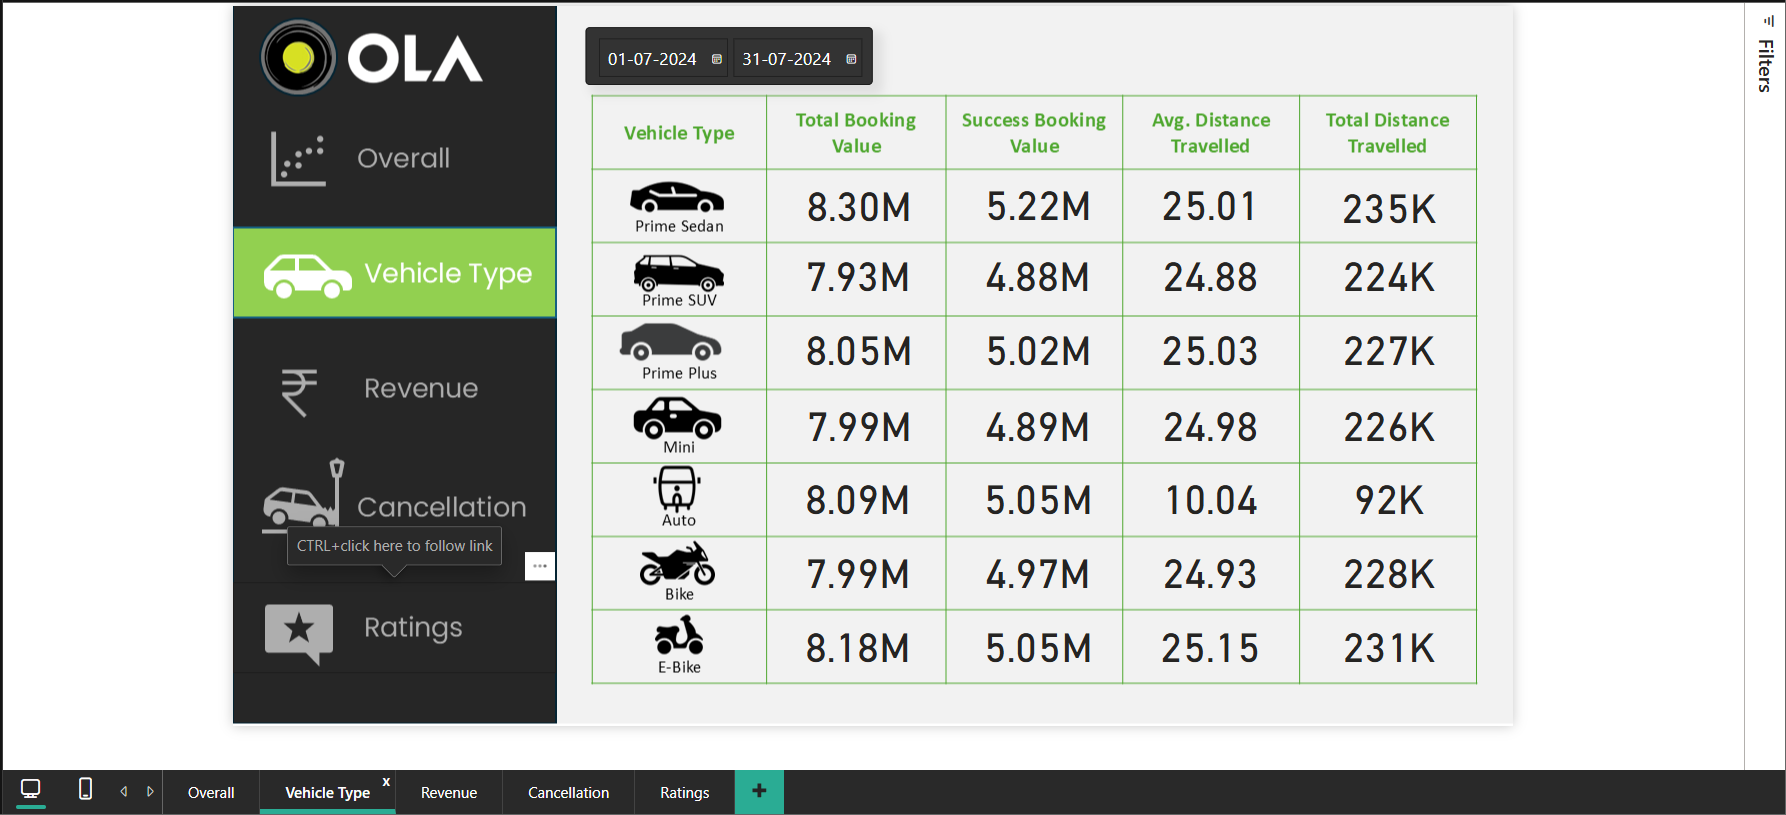

Layout of this report page (visuals, bound fields, positions):
{"tool":"powerbi","page":{"name":"Vehicle type","canvas":[1280,720],"ordinal":1},"visuals":[{"type":"actionButton","box":[0,332.2,324.4,91.1],"z":0},{"type":"actionButton","box":[0,447.8,324.4,91.1],"z":1000},{"type":"actionButton","box":[0,582.2,324.4,91.1],"z":2000},{"type":"actionButton","box":[0,111.1,324.4,91.1],"z":3000},{"type":"card","fields":{"Values":["Sum(Booking.Booking_Value)"]},"box":[533.3,164.4,181.1,72.2],"z":4000},{"type":"card","fields":{"Values":["Sum(Booking.Booking_Value)"]},"box":[533.3,236.7,181.1,72.2],"z":5000},{"type":"card","fields":{"Values":["Sum(Booking.Booking_Value)"]},"box":[533.3,305.6,181.1,72.2],"z":6000},{"type":"card","fields":{"Values":["Sum(Booking.Booking_Value)"]},"box":[533.3,377.8,181.1,72.2],"z":7000},{"type":"card","fields":{"Values":["Sum(Booking.Booking_Value)"]},"box":[533.3,450,181.1,72.2],"z":8000},{"type":"card","fields":{"Values":["Sum(Booking.Booking_Value)"]},"box":[533.3,522.2,181.1,72.2],"z":9000},{"type":"card","fields":{"Values":["Sum(Booking.Booking_Value)"]},"box":[533.3,601.1,181.1,72.2],"z":10000},{"type":"card","fields":{"Values":["Sum(Booking.Booking_Value)"]},"box":[714.4,164.4,181.1,72.2],"z":11000},{"type":"card","fields":{"Values":["Sum(Booking.Booking_Value)"]},"box":[714.4,236.7,181.1,72.2],"z":12000},{"type":"card","fields":{"Values":["Sum(Booking.Booking_Value)"]},"box":[714.4,308.9,181.1,72.2],"z":13000},{"type":"card","fields":{"Values":["Sum(Booking.Booking_Value)"]},"box":[714.4,386.7,181.1,72.2],"z":14000},{"type":"card","fields":{"Values":["Sum(Booking.Booking_Value)"]},"box":[714.4,456.7,181.1,72.2],"z":15000},{"type":"card","fields":{"Values":["Sum(Booking.Booking_Value)"]},"box":[714.4,528.9,181.1,72.2],"z":16000},{"type":"card","fields":{"Values":["Sum(Booking.Booking_Value)"]},"box":[714.4,601.1,181.1,72.2],"z":17000},{"type":"card","fields":{"Values":["Avg(Booking.Ride_Distance)"]},"box":[886.7,164.4,181.1,72.2],"z":18000},{"type":"card","fields":{"Values":["Avg(Booking.Ride_Distance)"]},"box":[886.7,233.3,181.1,72.2],"z":19000},{"type":"card","fields":{"Values":["Avg(Booking.Ride_Distance)"]},"box":[886.7,308.9,181.1,72.2],"z":20000},{"type":"card","fields":{"Values":["Avg(Booking.Ride_Distance)"]},"box":[886.7,384.4,181.1,72.2],"z":21000},{"type":"card","fields":{"Values":["Avg(Booking.Ride_Distance)"]},"box":[886.7,456.7,181.1,72.2],"z":22000},{"type":"card","fields":{"Values":["Avg(Booking.Ride_Distance)"]},"box":[886.7,528.9,181.1,72.2],"z":23000},{"type":"card","fields":{"Values":["Avg(Booking.Ride_Distance)"]},"box":[886.7,601.1,181.1,72.2],"z":24000},{"type":"card","fields":{"Values":["Sum(Booking.Ride_Distance)"]},"box":[1067.8,164.4,181.1,72.2],"z":25000},{"type":"card","fields":{"Values":["Sum(Booking.Ride_Distance)"]},"box":[1067.8,236.7,181.1,72.2],"z":26000},{"type":"card","fields":{"Values":["Sum(Booking.Ride_Distance)"]},"box":[1067.8,308.9,181.1,72.2],"z":27000},{"type":"card","fields":{"Values":["Sum(Booking.Ride_Distance)"]},"box":[1067.8,381.1,181.1,72.2],"z":28000},{"type":"card","fields":{"Values":["Sum(Booking.Ride_Distance)"]},"box":[1067.8,458.9,181.1,72.2],"z":29000},{"type":"card","fields":{"Values":["Sum(Booking.Ride_Distance)"]},"box":[1067.8,528.9,181.1,72.2],"z":30000},{"type":"card","fields":{"Values":["Sum(Booking.Ride_Distance)"]},"box":[1067.8,601.1,181.1,72.2],"z":31000},{"type":"slicer","title":"Date","fields":{"Values":["Booking.Date"]},"box":[939.3,21.4,340.5,65.5],"z":32000}]}

Visuals, with their boxes on the page's 1280x720 design canvas (x1, y1, x2, y2). These are canvas units, not pixel positions in the 1786x815 screenshot, which may show the page scaled, cropped or inside an application window:
actionButton: pyautogui.locateOnScreen(0, 332, 324, 423)
actionButton: pyautogui.locateOnScreen(0, 448, 324, 539)
actionButton: pyautogui.locateOnScreen(0, 582, 324, 673)
actionButton: pyautogui.locateOnScreen(0, 111, 324, 202)
card - Sum(Booking.Booking_Value): pyautogui.locateOnScreen(533, 164, 714, 237)
card - Sum(Booking.Booking_Value): pyautogui.locateOnScreen(533, 237, 714, 309)
card - Sum(Booking.Booking_Value): pyautogui.locateOnScreen(533, 306, 714, 378)
card - Sum(Booking.Booking_Value): pyautogui.locateOnScreen(533, 378, 714, 450)
card - Sum(Booking.Booking_Value): pyautogui.locateOnScreen(533, 450, 714, 522)
card - Sum(Booking.Booking_Value): pyautogui.locateOnScreen(533, 522, 714, 594)
card - Sum(Booking.Booking_Value): pyautogui.locateOnScreen(533, 601, 714, 673)
card - Sum(Booking.Booking_Value): pyautogui.locateOnScreen(714, 164, 896, 237)
card - Sum(Booking.Booking_Value): pyautogui.locateOnScreen(714, 237, 896, 309)
card - Sum(Booking.Booking_Value): pyautogui.locateOnScreen(714, 309, 896, 381)
card - Sum(Booking.Booking_Value): pyautogui.locateOnScreen(714, 387, 896, 459)
card - Sum(Booking.Booking_Value): pyautogui.locateOnScreen(714, 457, 896, 529)
card - Sum(Booking.Booking_Value): pyautogui.locateOnScreen(714, 529, 896, 601)
card - Sum(Booking.Booking_Value): pyautogui.locateOnScreen(714, 601, 896, 673)
card - Avg(Booking.Ride_Distance): pyautogui.locateOnScreen(887, 164, 1068, 237)
card - Avg(Booking.Ride_Distance): pyautogui.locateOnScreen(887, 233, 1068, 306)
card - Avg(Booking.Ride_Distance): pyautogui.locateOnScreen(887, 309, 1068, 381)
card - Avg(Booking.Ride_Distance): pyautogui.locateOnScreen(887, 384, 1068, 457)
card - Avg(Booking.Ride_Distance): pyautogui.locateOnScreen(887, 457, 1068, 529)
card - Avg(Booking.Ride_Distance): pyautogui.locateOnScreen(887, 529, 1068, 601)
card - Avg(Booking.Ride_Distance): pyautogui.locateOnScreen(887, 601, 1068, 673)
card - Sum(Booking.Ride_Distance): pyautogui.locateOnScreen(1068, 164, 1249, 237)
card - Sum(Booking.Ride_Distance): pyautogui.locateOnScreen(1068, 237, 1249, 309)
card - Sum(Booking.Ride_Distance): pyautogui.locateOnScreen(1068, 309, 1249, 381)
card - Sum(Booking.Ride_Distance): pyautogui.locateOnScreen(1068, 381, 1249, 453)
card - Sum(Booking.Ride_Distance): pyautogui.locateOnScreen(1068, 459, 1249, 531)
card - Sum(Booking.Ride_Distance): pyautogui.locateOnScreen(1068, 529, 1249, 601)
card - Sum(Booking.Ride_Distance): pyautogui.locateOnScreen(1068, 601, 1249, 673)
"Date" slicer: pyautogui.locateOnScreen(939, 21, 1280, 87)
